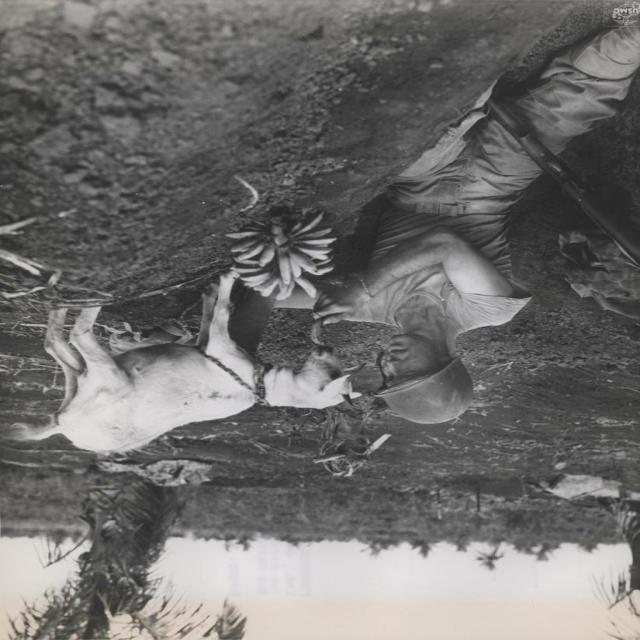Goat: (9, 270, 363, 456)
